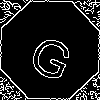G: (25, 25, 80, 84)
